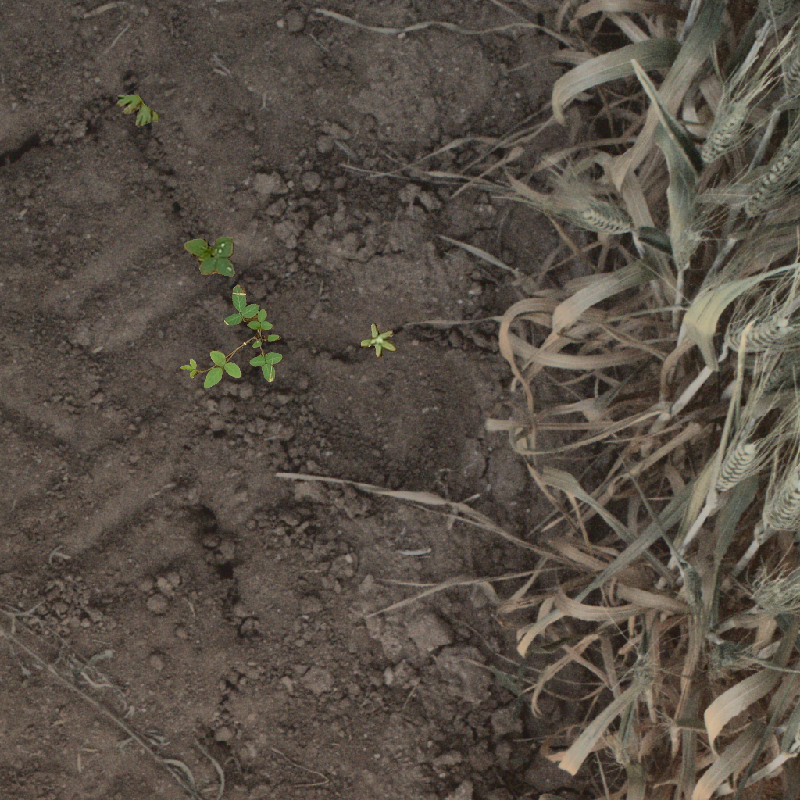spikelet: (739, 135, 799, 219), (695, 96, 751, 166), (757, 445, 799, 536), (719, 311, 794, 355), (570, 194, 635, 237), (712, 437, 760, 493), (775, 35, 800, 111), (751, 575, 796, 616), (667, 224, 703, 271), (707, 638, 747, 672), (751, 1, 798, 24)
weed: (185, 283, 295, 410), (182, 237, 235, 277), (111, 91, 163, 131), (361, 323, 397, 359)
